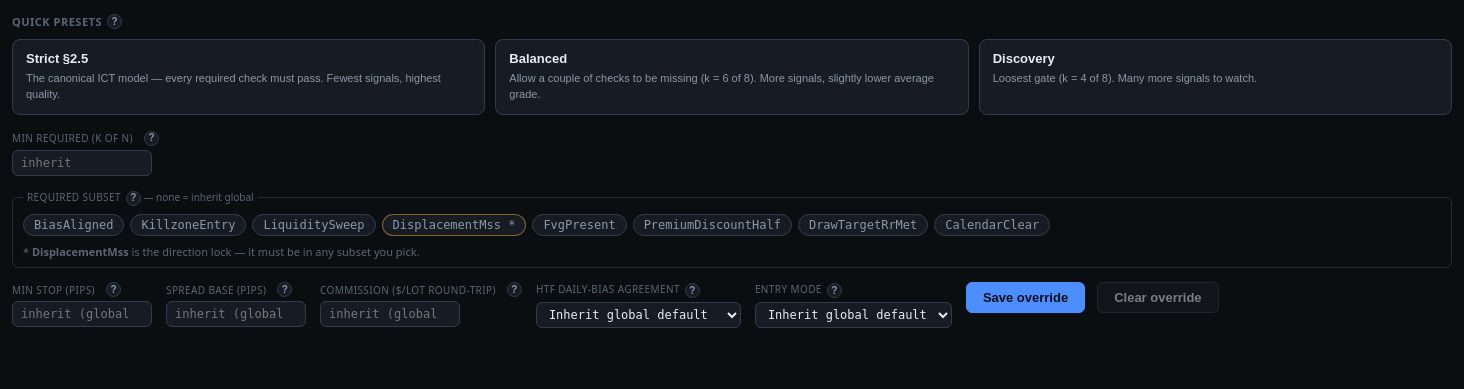
InstrumentOverrideForm › applies a preset into the form (Balanced sets k-of-n to 6)
The width and height of the screenshot is (1464, 389).
Expected: the number field named "Min required (k of n)" is empty, left=12, top=150, right=152, bottom=176
Click the button "Balanced" at coordinates (732, 77), box left=495, top=39, right=969, bottom=115
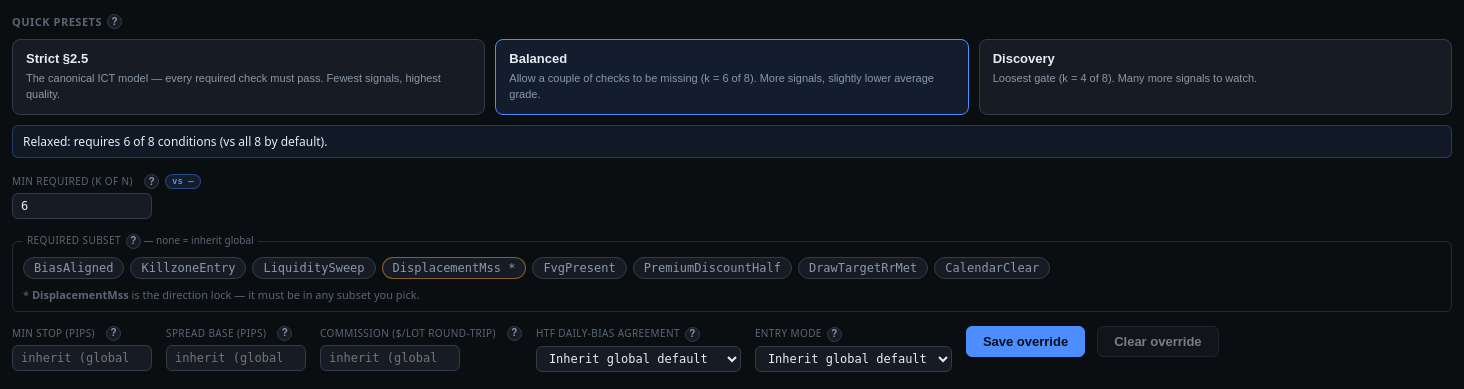
Expected: the number field named "Min required (k of n)" holds "6", left=12, top=193, right=152, bottom=219
